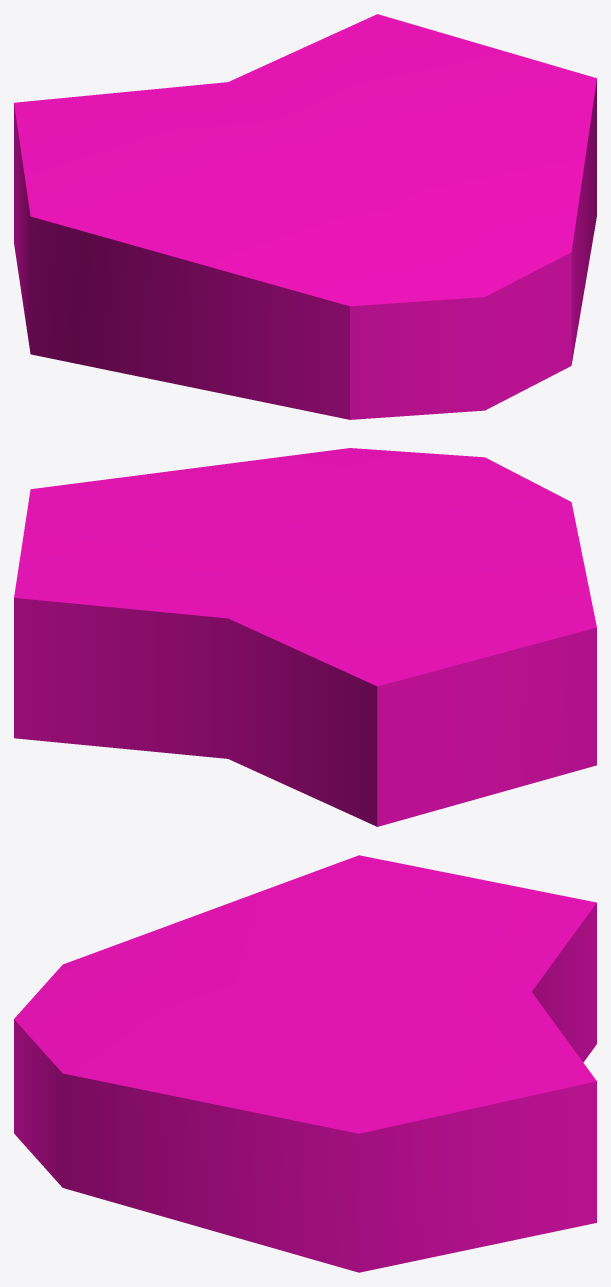
The model's file is study_pillow_heart_meshCollider.fbx.
3 renders of one model, top to bottom at view 1: azimuth 30°, elevation 25°; view 2: azimuth 150°, elevation 25°; view 3: azimuth 270°, elevation 25°, orthographic.
Parts seen in each view (by area): view 1: study_pillow_heart_meshCollider; view 2: study_pillow_heart_meshCollider; view 3: study_pillow_heart_meshCollider.
Boxes of the visible parts, x1,y1,x2,y2 form: study_pillow_heart_meshCollider: [14, 14, 596, 419]; study_pillow_heart_meshCollider: [14, 448, 596, 826]; study_pillow_heart_meshCollider: [14, 855, 596, 1272].
Size of the model in its own units: 37.91 by 8.98 by 33.54.
